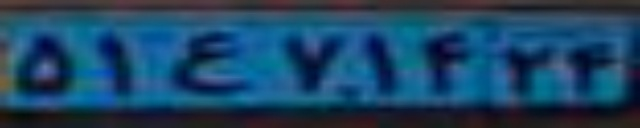1: (94, 35, 132, 94), (362, 31, 394, 95)
2: (501, 41, 556, 95)
4: (420, 30, 478, 95), (566, 39, 616, 95)
5: (12, 34, 76, 93)
7: (277, 31, 345, 93)
ain: (167, 31, 249, 96)
